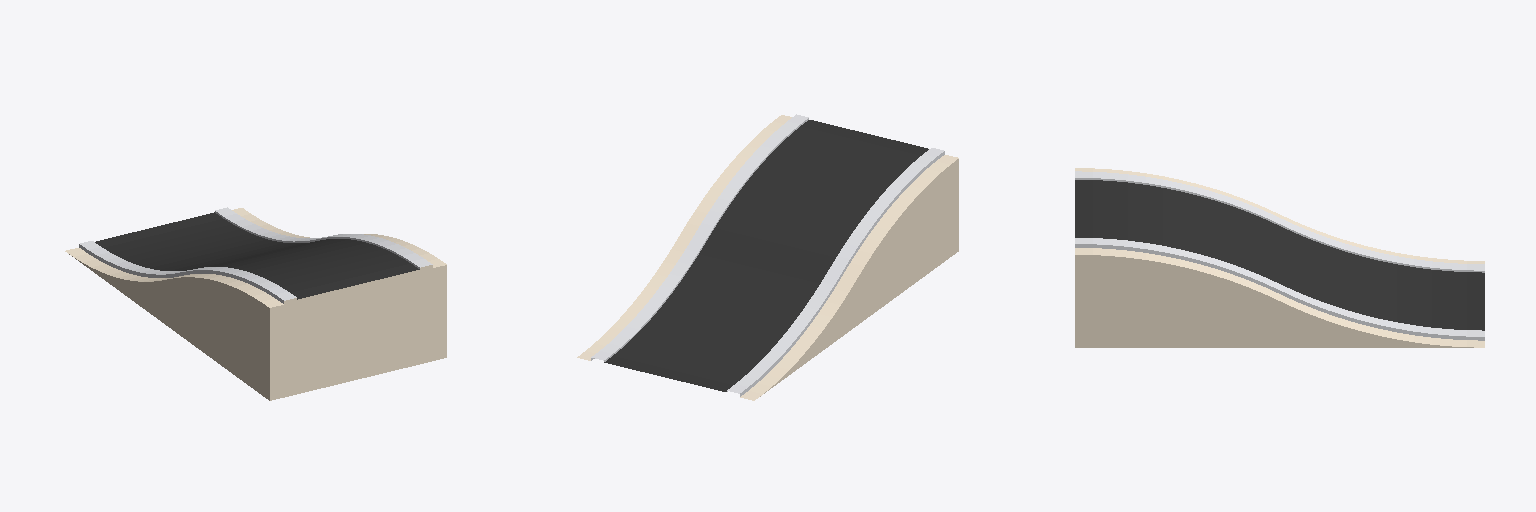
Rendered from roadRampLongCurvedWall.obj.
3 renders of one model, left to right at view 1: azimuth 30°, elevation 25°; view 2: azimuth 150°, elevation 25°; view 3: azimuth 270°, elevation 25°, orthographic.
Visible parts, largest first — view 1: roadRampLongCurvedWall; view 2: roadRampLongCurvedWall; view 3: roadRampLongCurvedWall.
Boxes of the visible parts, <box> form: roadRampLongCurvedWall: <box>65,207,446,400</box>; roadRampLongCurvedWall: <box>577,114,958,400</box>; roadRampLongCurvedWall: <box>1075,168,1484,347</box>.
Bounding box in the file's own units: 1 × 0.52 × 2.